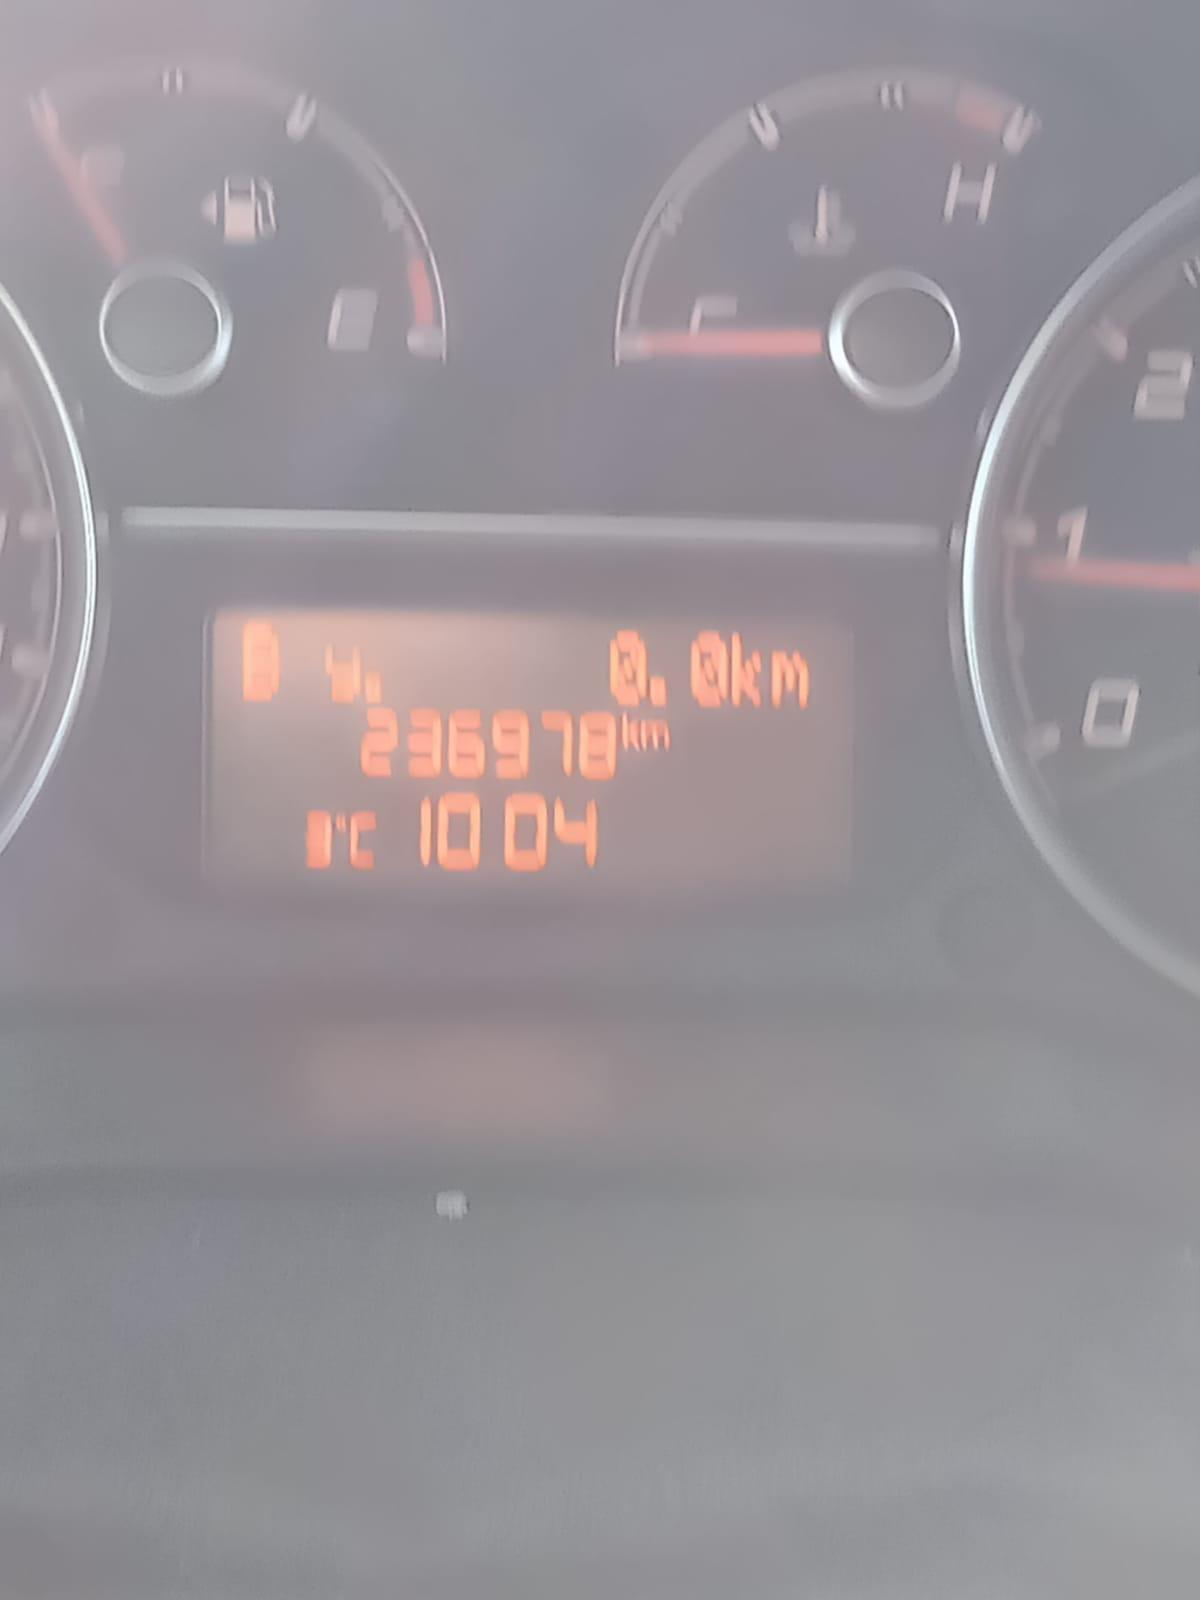,: (364, 671, 382, 704), (650, 673, 667, 708)
0: (434, 790, 482, 872), (500, 792, 547, 872), (688, 631, 729, 709), (608, 630, 649, 706)
1: (416, 794, 434, 869)
2: (359, 706, 400, 779)
3: (406, 706, 442, 779), (303, 809, 334, 868)
4: (553, 796, 597, 869)
6: (447, 706, 487, 779)
7: (538, 709, 574, 776)
8: (577, 711, 616, 780)
9: (492, 709, 529, 780)
X: (241, 617, 282, 698), (766, 648, 811, 709), (323, 639, 363, 706), (730, 631, 764, 707), (347, 808, 379, 871), (642, 717, 672, 751), (620, 712, 642, 752)
odometer: (193, 596, 868, 915)
